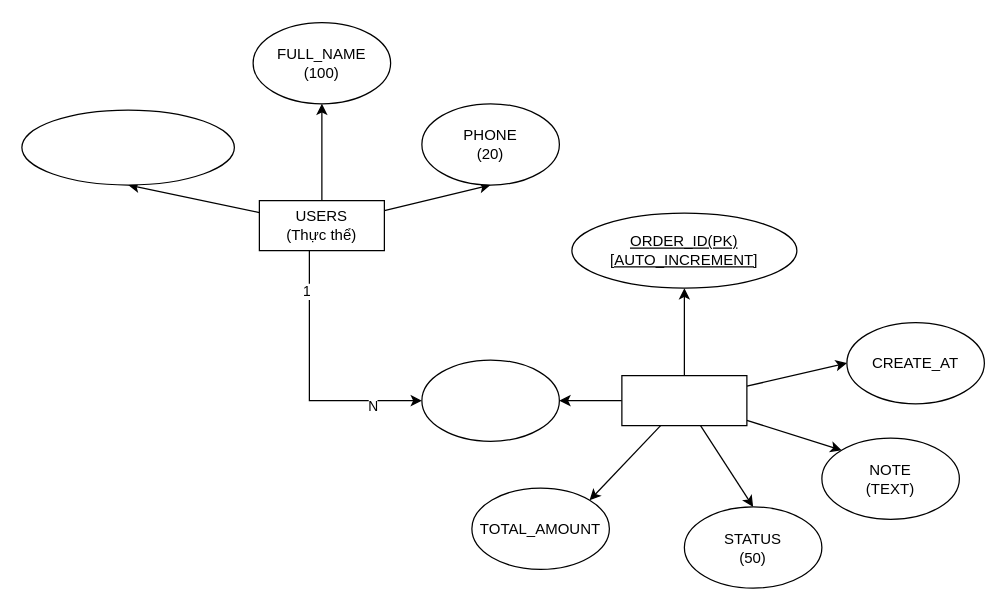
Some shapes in this 1006 by 610 pixel diagram are drawn without their labels. Here are the shapes that lost their labels. From the top down, the centre of each, then its label:
At (x=127, y=147): "USER_ID (PK) [AUTO_INCREMENT]".
At (x=490, y=400): "USER_ID(FK)".
At (x=684, y=400): "ORDERS (Thực thể)".
